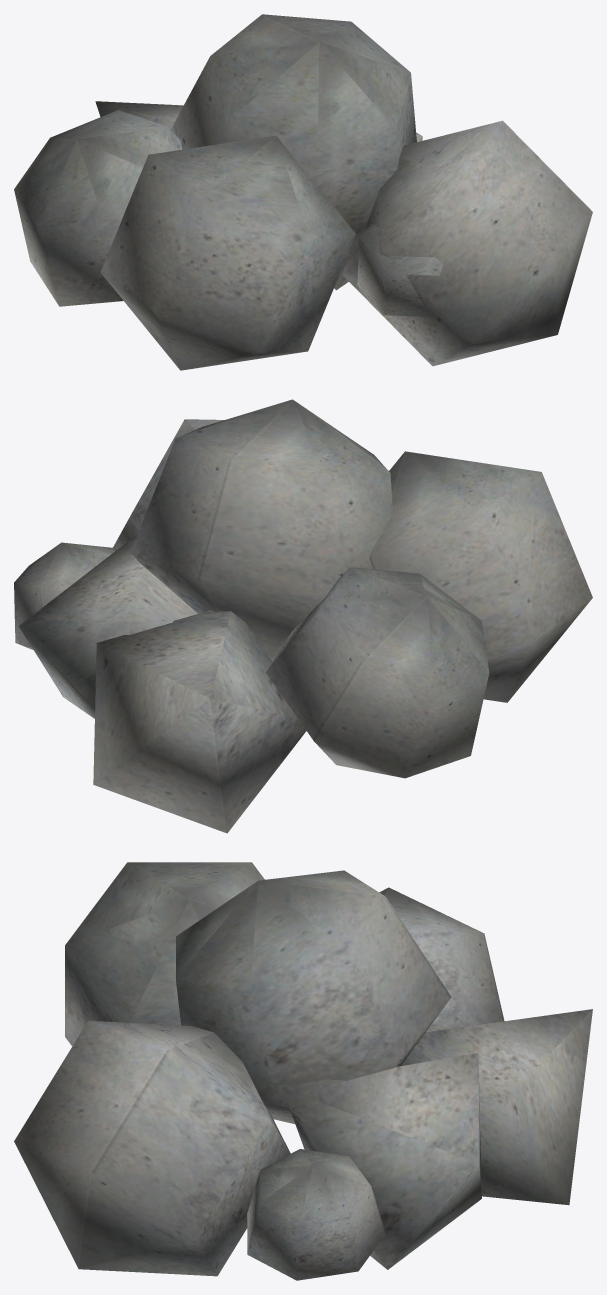
Rendered from stone0.obj.
3 renders of one model, top to bottom at view 1: azimuth 30°, elevation 25°; view 2: azimuth 150°, elevation 25°; view 3: azimuth 270°, elevation 25°, orthographic. The views are drawn at different scales.
Parts seen in each view (by area): view 1: Sphere001, Sphere008, Sphere005, Sphere004, Sphere002, Sphere007; view 2: Sphere005, Sphere004, Sphere007, Sphere001, Sphere003, Sphere006, Sphere008; view 3: Sphere008, Sphere005, Sphere003, Sphere007, Sphere001, Sphere006, Sphere004.
Part boxes in pixels (bbox=[...]): Sphere001: bbox=[100, 135, 355, 370]; Sphere008: bbox=[342, 120, 592, 366]; Sphere005: bbox=[171, 14, 416, 236]; Sphere004: bbox=[14, 110, 181, 306]; Sphere002: bbox=[357, 224, 442, 316]; Sphere007: bbox=[95, 101, 183, 129]; Sphere005: bbox=[130, 399, 392, 661]; Sphere004: bbox=[266, 567, 489, 778]; Sphere007: bbox=[93, 610, 306, 833]; Sphere001: bbox=[369, 451, 592, 702]; Sphere003: bbox=[18, 534, 197, 718]; Sphere006: bbox=[14, 542, 114, 649]; Sphere008: bbox=[113, 419, 224, 550]; Sphere008: bbox=[14, 1020, 290, 1276]; Sphere005: bbox=[176, 870, 451, 1123]; Sphere003: bbox=[282, 1052, 481, 1269]; Sphere007: bbox=[402, 1009, 592, 1205]; Sphere001: bbox=[65, 862, 264, 1046]; Sphere006: bbox=[247, 1149, 385, 1280]; Sphere004: bbox=[379, 887, 504, 1065].
Bounding box in the file's own units: 59.33 × 38.13 × 58.02.
1 material, 1 textured.
